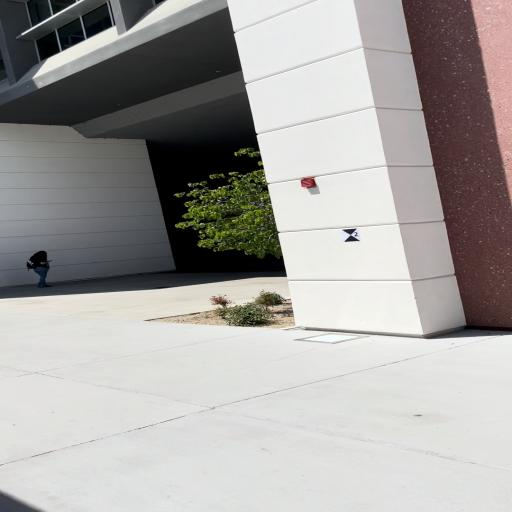target2: (341, 229, 361, 242)
